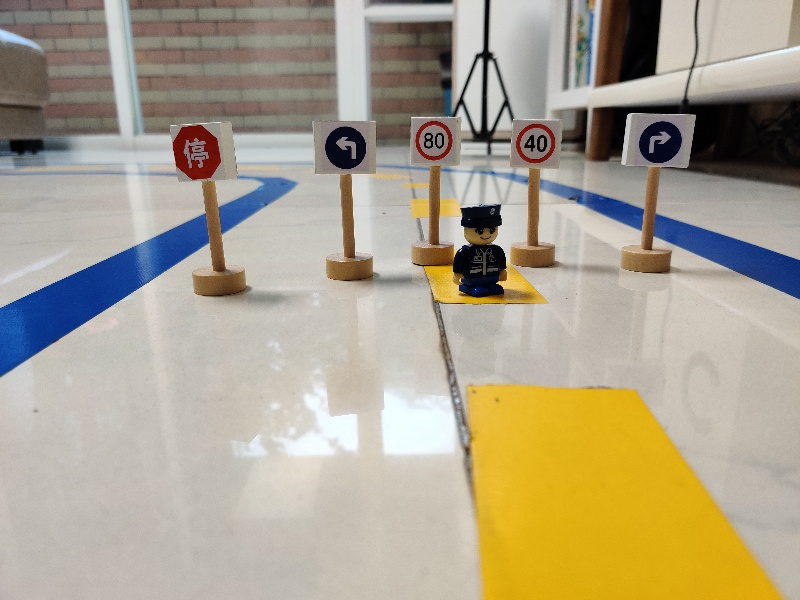limit_40: (508, 115, 564, 172)
limit_80: (406, 113, 462, 169)
person: (449, 198, 510, 302)
stop: (167, 116, 242, 184)
turn_left: (310, 117, 376, 173)
turn_right: (622, 111, 696, 170)
